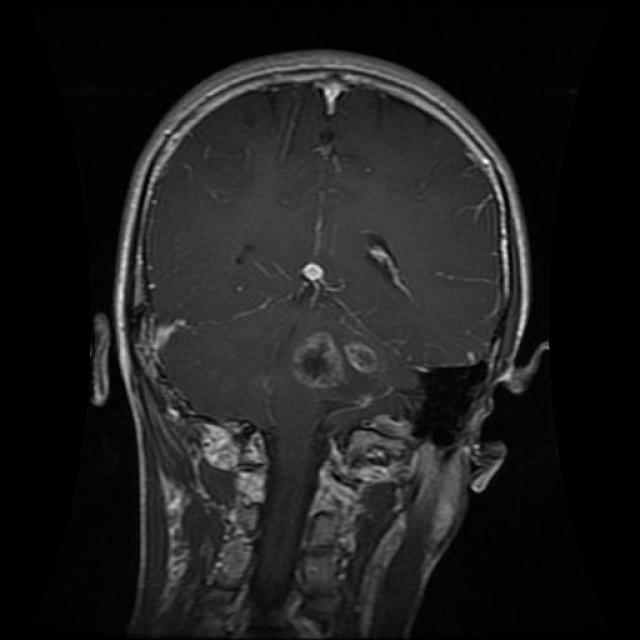glioma: (287, 325, 383, 395)
